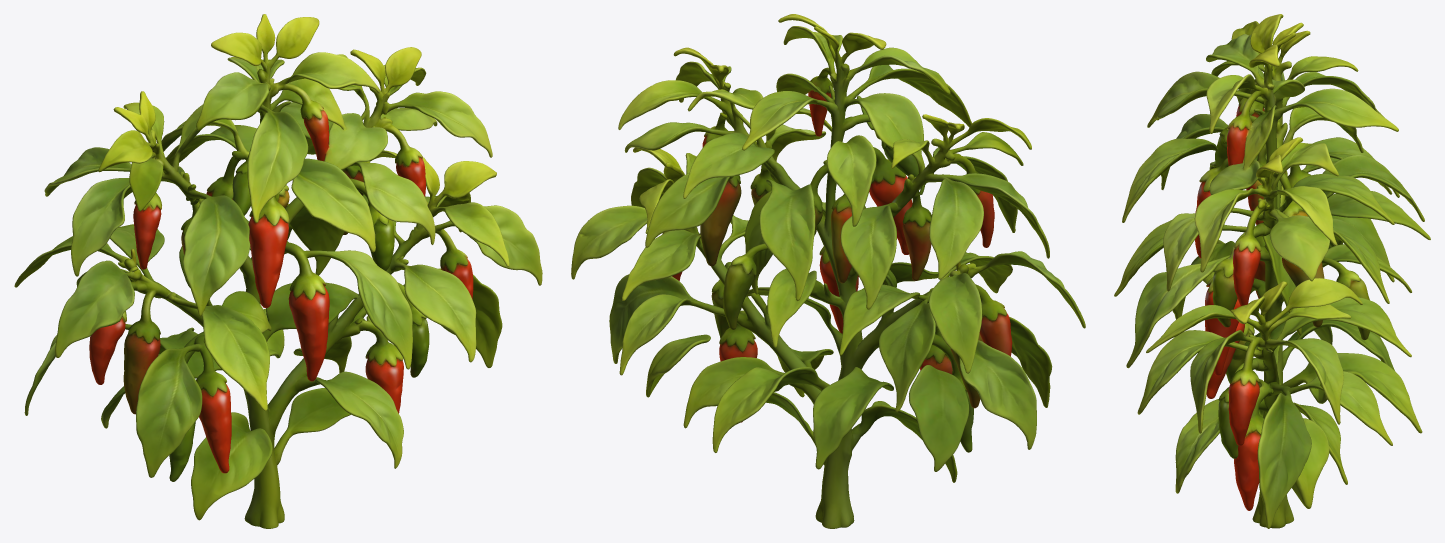
The model's file is pepper-plant.glb.
The picture shows the model from 3 angles, left to right: view 1: azimuth 30°, elevation 25°; view 2: azimuth 150°, elevation 25°; view 3: azimuth 270°, elevation 25°; orthographic projection.
Visible parts, largest first — view 1: tripo_node_fd1b8239-525e-4560-b6b4-c1a15ad48afa; view 2: tripo_node_fd1b8239-525e-4560-b6b4-c1a15ad48afa; view 3: tripo_node_fd1b8239-525e-4560-b6b4-c1a15ad48afa.
Part boxes in pixels (<box>): tripo_node_fd1b8239-525e-4560-b6b4-c1a15ad48afa: <box>14,14,542,528</box>; tripo_node_fd1b8239-525e-4560-b6b4-c1a15ad48afa: <box>571,14,1085,528</box>; tripo_node_fd1b8239-525e-4560-b6b4-c1a15ad48afa: <box>1114,14,1430,528</box>.
Size of the model in its own units: 0.9891 by 1 by 0.5827.
Materials: 1 (1 with a texture image).
